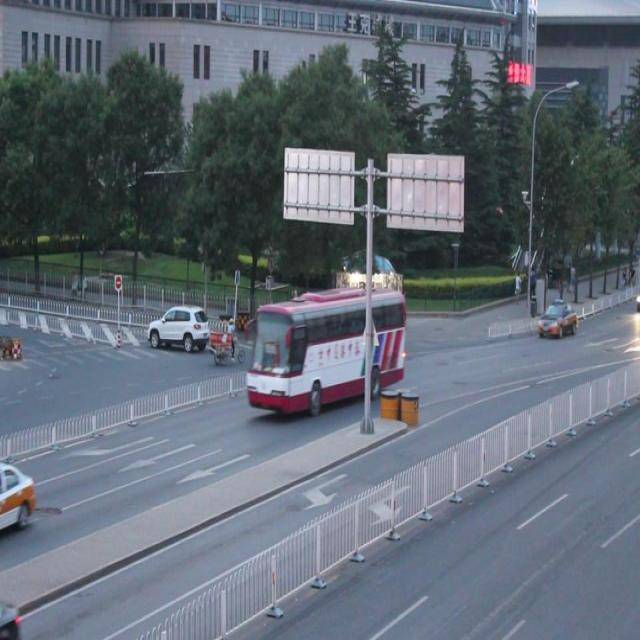car: (149, 307, 214, 358), (1, 452, 37, 536), (535, 298, 576, 336)
van: (251, 292, 406, 416)
